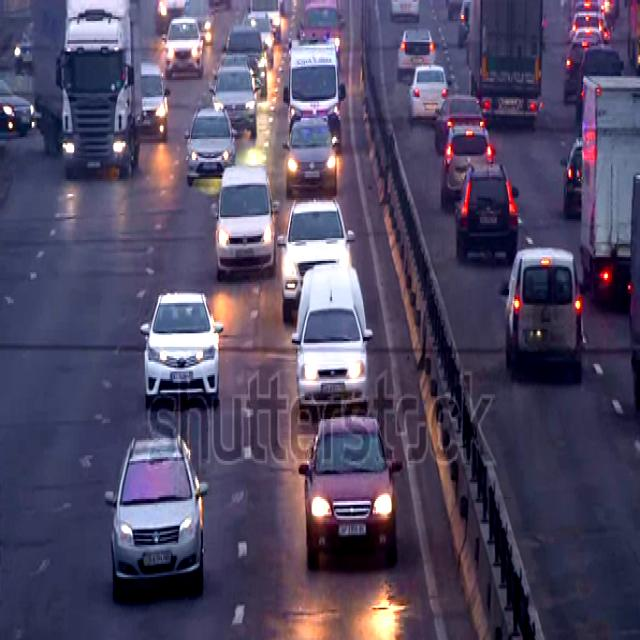ambulance: (288, 40, 347, 152)
